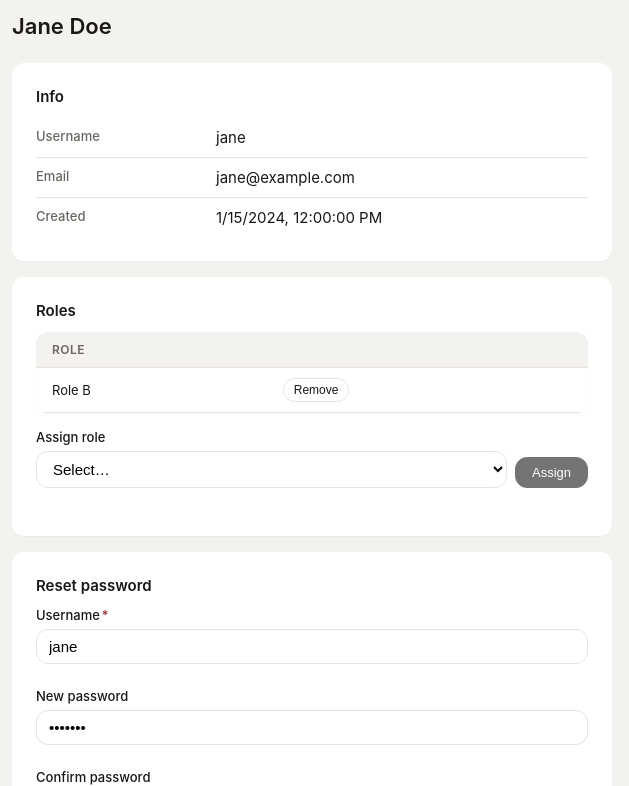
AdminUserDetailPage › reset password: password shorter than 8 characters does not POST
Type "1234567" into the password field with id "cred_password".
click(312, 728); type("1234567")  # box x1=36 y1=710 x2=588 y2=745
(page scrolled)
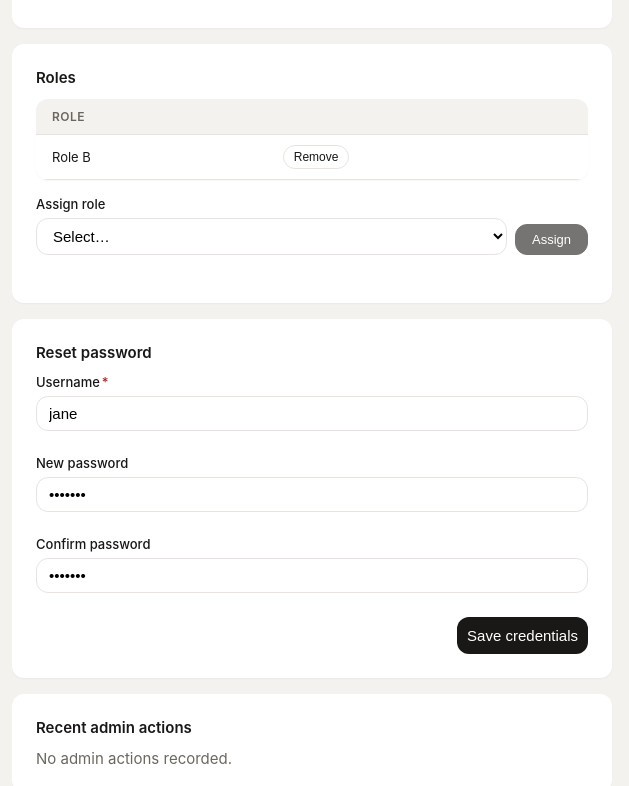
Type "1234567" into the password field with id "cred_confirm".
click(312, 576); type("1234567")  # box x1=36 y1=558 x2=588 y2=593
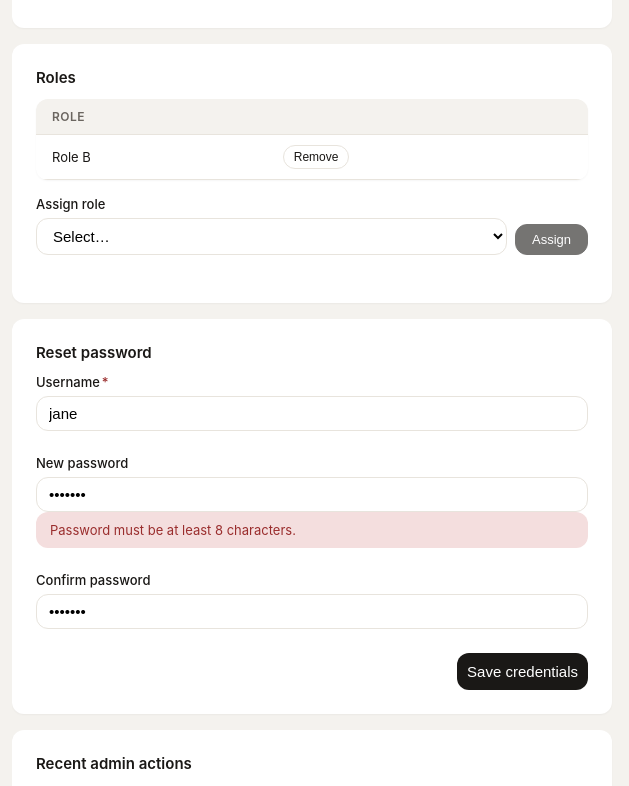
Check: the text "Password must be at least 8 characters." is shown, box x1=36 y1=512 x2=588 y2=548
